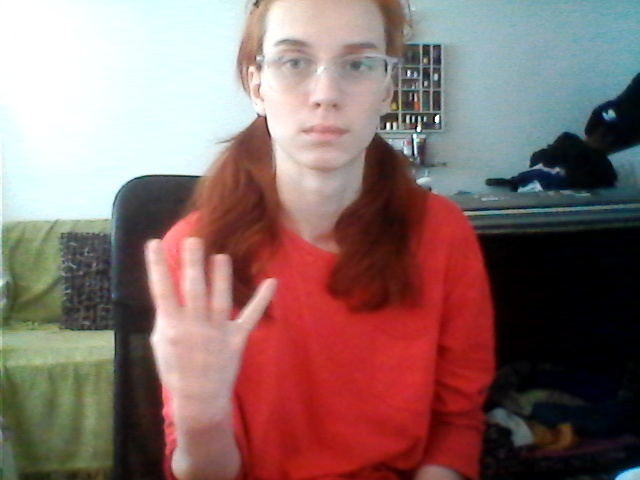kedy: (126, 233, 287, 413)
